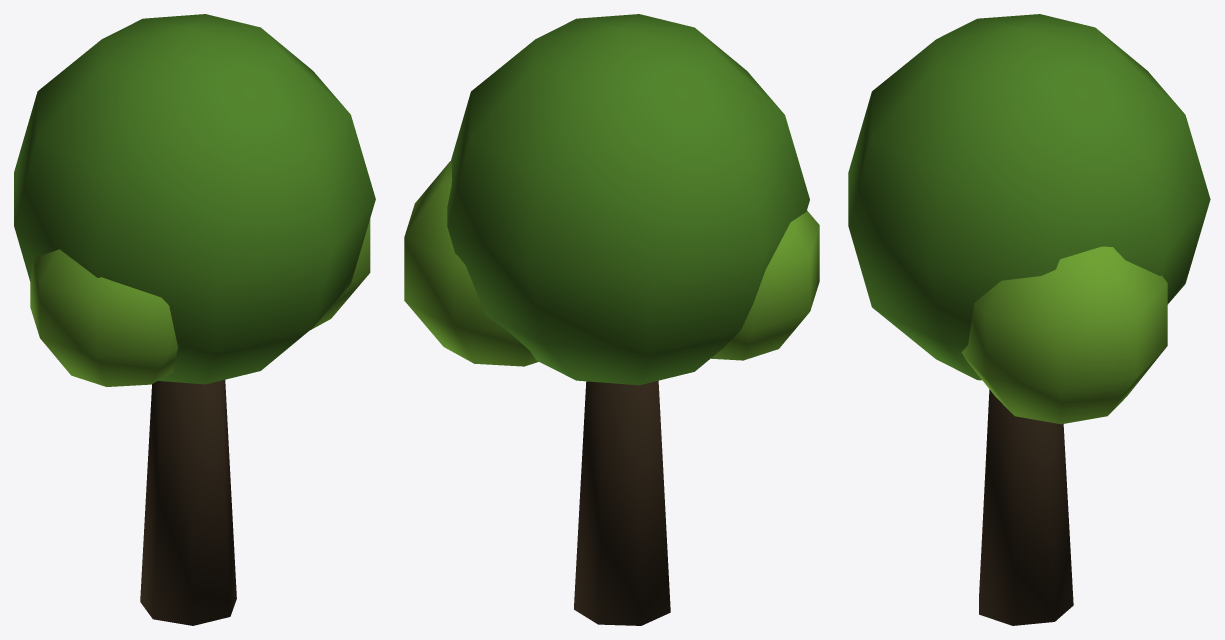
File: tree_round.glb
3 views of the same model, side by side, from view 1: azimuth 30°, elevation 25°; view 2: azimuth 150°, elevation 25°; view 3: azimuth 270°, elevation 25° (orthographic).
Visible parts, largest first — view 1: tree_round; view 2: tree_round; view 3: tree_round.
Boxes of the visible parts, <box> form: tree_round: <box>14,14,375,625</box>; tree_round: <box>404,14,819,625</box>; tree_round: <box>848,14,1210,625</box>.
Size of the model in its own units: 33.17 by 51 by 29.1.
